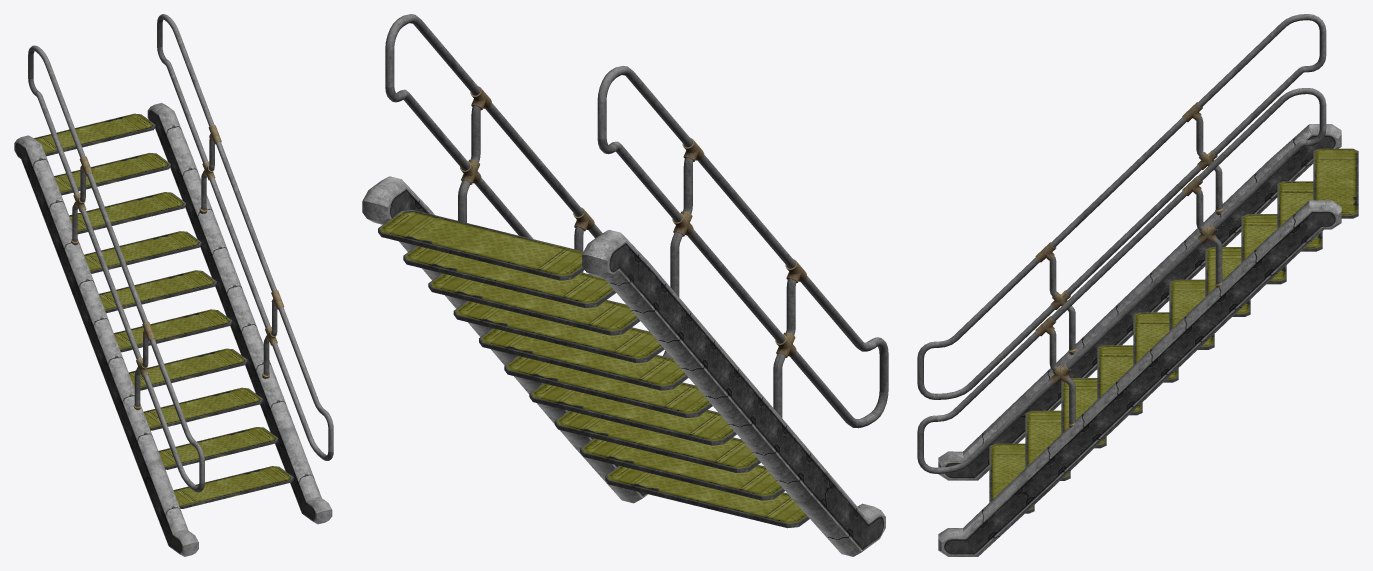
File: metal_pplant_straight.dae
3 renders of one model, left to right at view 1: azimuth 30°, elevation 25°; view 2: azimuth 150°, elevation 25°; view 3: azimuth 270°, elevation 25°, orthographic. The views are drawn at different scales.
Visible parts, largest first — view 1: stairs_pplant_straight, rail; view 2: stairs_pplant_straight, rail; view 3: stairs_pplant_straight, rail.
Part boxes in pixels (box(x1,y1,x2,y2)): stairs_pplant_straight: box(14, 103, 332, 556); rail: box(28, 14, 333, 492); stairs_pplant_straight: box(362, 176, 885, 556); rail: box(385, 14, 888, 428); stairs_pplant_straight: box(938, 124, 1358, 556); rail: box(917, 14, 1326, 473).
Size of the model in its own units: 2.24 by 5.69 by 4.88.
